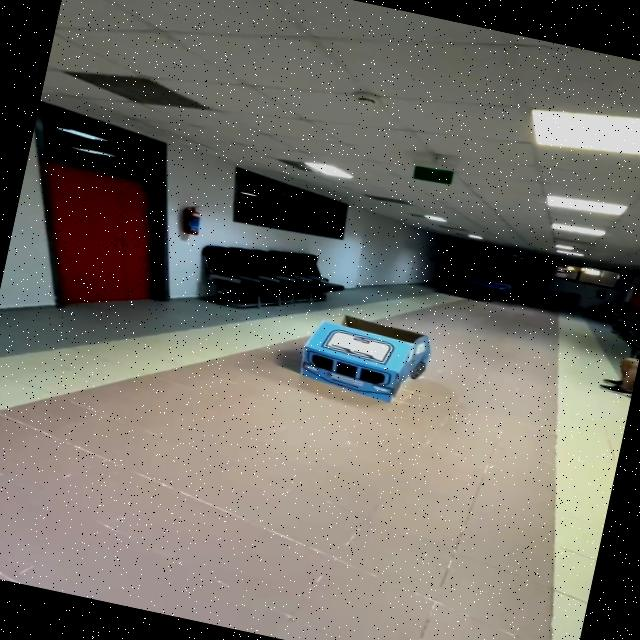blue_car: (272, 290, 449, 428)
